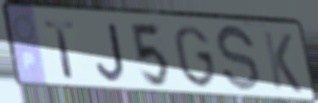5: (128, 22, 172, 89)
G: (171, 24, 219, 91)
J: (94, 21, 128, 84)
K: (260, 30, 304, 96)
S: (215, 24, 263, 97)
T: (42, 19, 78, 81)
